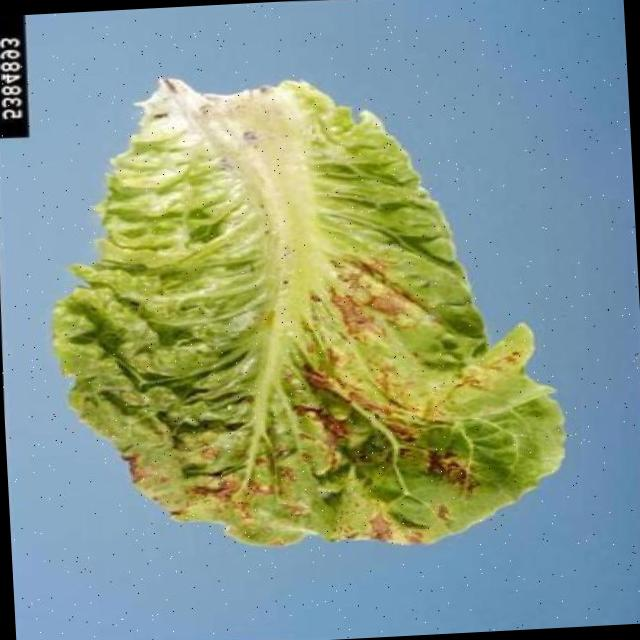Lettuce Mosaic Virus: (37, 57, 568, 570)
